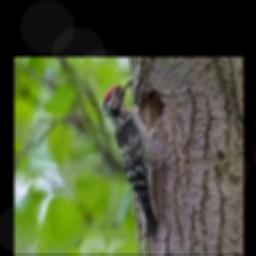Woodpecker: (104, 79, 164, 241)
